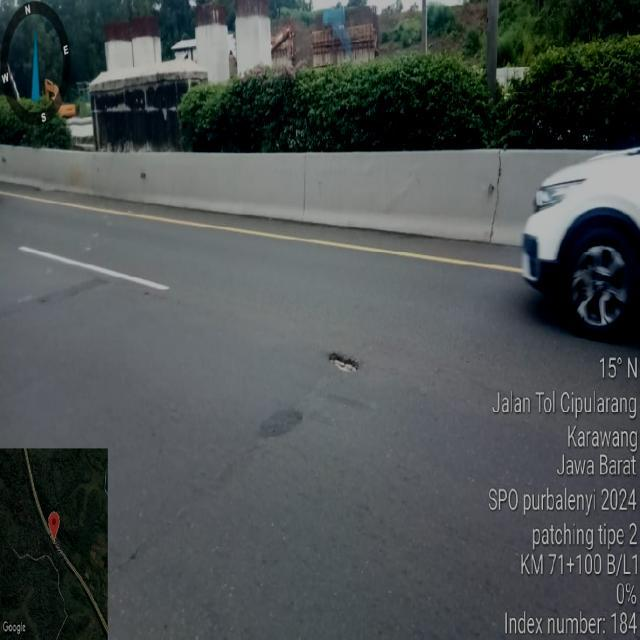Buraco: (325, 350, 364, 376)
